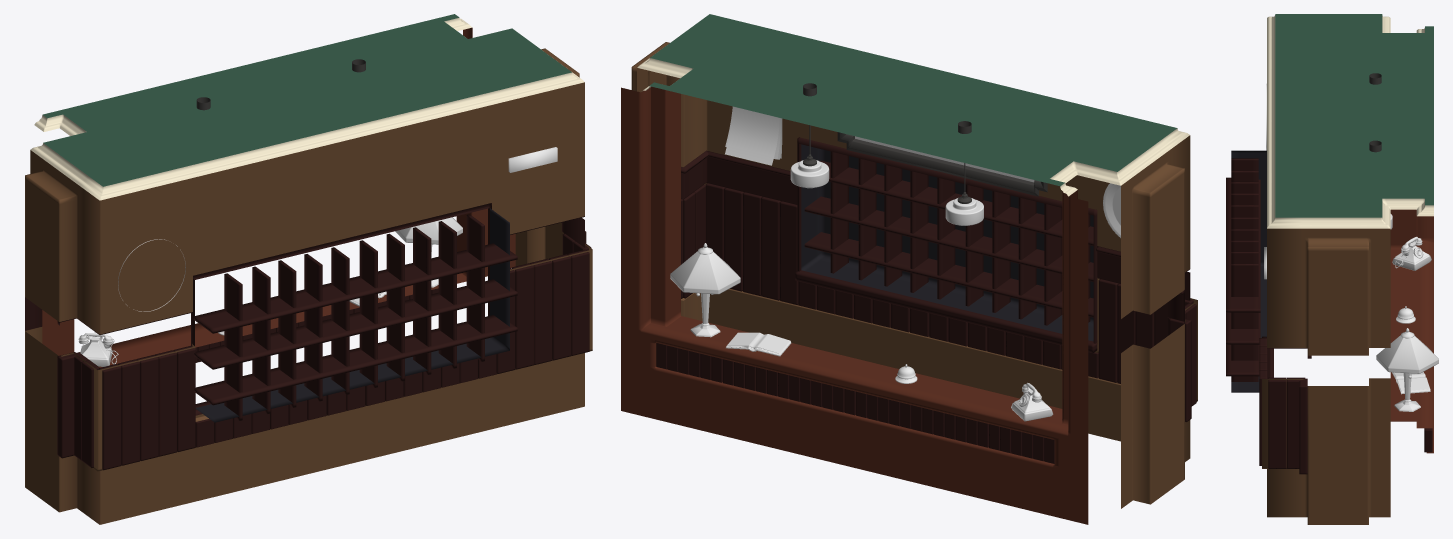
Rendered from front_desk_mk2.fbx.
3 renders of one model, left to right at view 1: azimuth 30°, elevation 25°; view 2: azimuth 150°, elevation 25°; view 3: azimuth 270°, elevation 25°, orthographic. The views are drawn at different scales.
Visible parts, largest first — view 1: Cube.075, Cube.081, Cube.088, Cube.087, Cube.089, Cube.090, Cube.099, Cube.092, Cube.078, Cube.096, Cube.093; view 2: Cube.099, Cube.075, Cube.081, Cube.087, Cube.088, Cube.090, Cube.092, Cube.080, Cube.089, Cube.085, Cube.093, Cube.091 (+5 smaller); view 3: Cube.081, Cube.075, Cube.088, Cube.099, Cube.087, Cube.089, Cube.090, Cube.093, Cube.078, Cube.084, Cube.083, Cube.077.
Boxes of the visible parts, x1,y1,x2,y2 form: Cube.075: [25, 48, 592, 524]; Cube.081: [43, 14, 571, 186]; Cube.088: [193, 214, 517, 420]; Cube.087: [25, 216, 591, 470]; Cube.089: [30, 17, 584, 200]; Cube.090: [195, 208, 509, 422]; Cube.099: [42, 27, 515, 367]; Cube.092: [191, 203, 491, 415]; Cube.078: [78, 332, 118, 366]; Cube.096: [508, 147, 557, 172]; Cube.093: [395, 217, 462, 244]; Cube.099: [621, 86, 1088, 524]; Cube.075: [631, 42, 1197, 508]; Cube.081: [649, 14, 1177, 186]; Cube.087: [656, 150, 1196, 463]; Cube.088: [804, 151, 1093, 325]; Cube.090: [801, 144, 1093, 341]; Cube.092: [795, 137, 1097, 352]; Cube.080: [837, 132, 1047, 196]; Cube.089: [637, 58, 1189, 196]; Cube.085: [725, 106, 782, 165]; Cube.093: [670, 251, 740, 294]; Cube.091: [790, 160, 983, 225]; Cube.081: [1275, 14, 1433, 217]; Cube.075: [1262, 228, 1390, 524]; Cube.088: [1226, 158, 1260, 381]; Cube.099: [1390, 209, 1433, 453]; Cube.087: [1259, 336, 1432, 474]; Cube.089: [1267, 15, 1433, 228]; Cube.090: [1231, 150, 1266, 392]; Cube.093: [1376, 335, 1438, 373]; Cube.078: [1392, 236, 1431, 270]; Cube.084: [1394, 328, 1420, 411]; Cube.083: [1392, 372, 1430, 393]; Cube.077: [1369, 73, 1381, 152].
Size of the model in its own units: 208 by 526 by 326.
